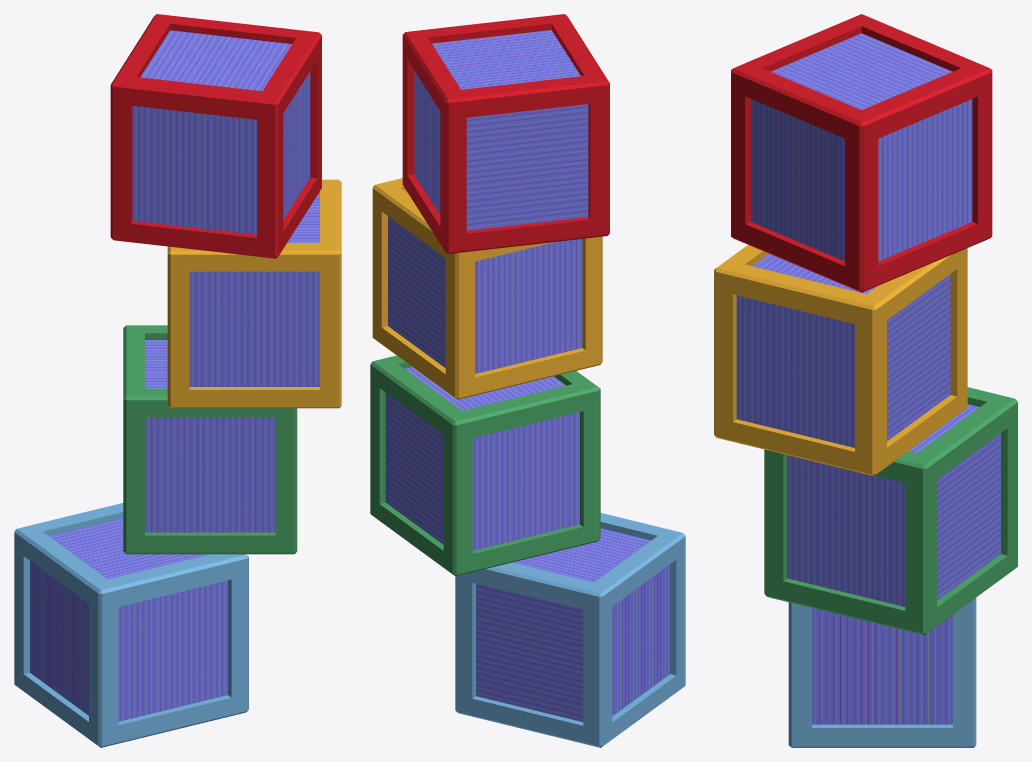
The model's file is WoodBlocks_Group_C_00.FBX.
3 renders of one model, left to right at view 1: azimuth 30°, elevation 25°; view 2: azimuth 150°, elevation 25°; view 3: azimuth 270°, elevation 25°, orthographic. The views are drawn at different scales.
Visible parts, largest first — view 1: WoodBlocks_Group_C_Rough_00, WoodBlocks_Group_C_00; view 2: WoodBlocks_Group_C_Rough_00, WoodBlocks_Group_C_00; view 3: WoodBlocks_Group_C_Rough_00, WoodBlocks_Group_C_00.
Boxes of the visible parts, left/top/right/bottom form: WoodBlocks_Group_C_Rough_00: left=30, top=30, right=319, bottom=721; WoodBlocks_Group_C_00: left=14, top=14, right=341, bottom=747; WoodBlocks_Group_C_Rough_00: left=385, top=30, right=670, bottom=721; WoodBlocks_Group_C_00: left=370, top=14, right=685, bottom=747; WoodBlocks_Group_C_Rough_00: left=736, top=33, right=1000, bottom=724; WoodBlocks_Group_C_00: left=714, top=14, right=1017, bottom=747.
Bounding box in the file's own units: 2.24 × 4.8 × 1.94.
